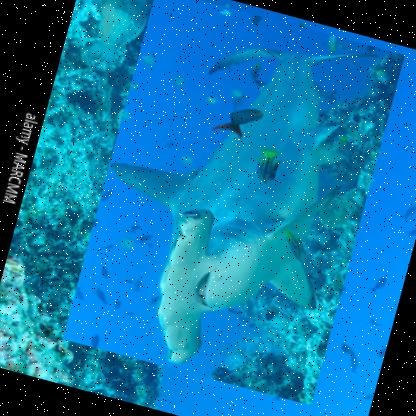hammerhead_Shark: (61, 0, 405, 406)
